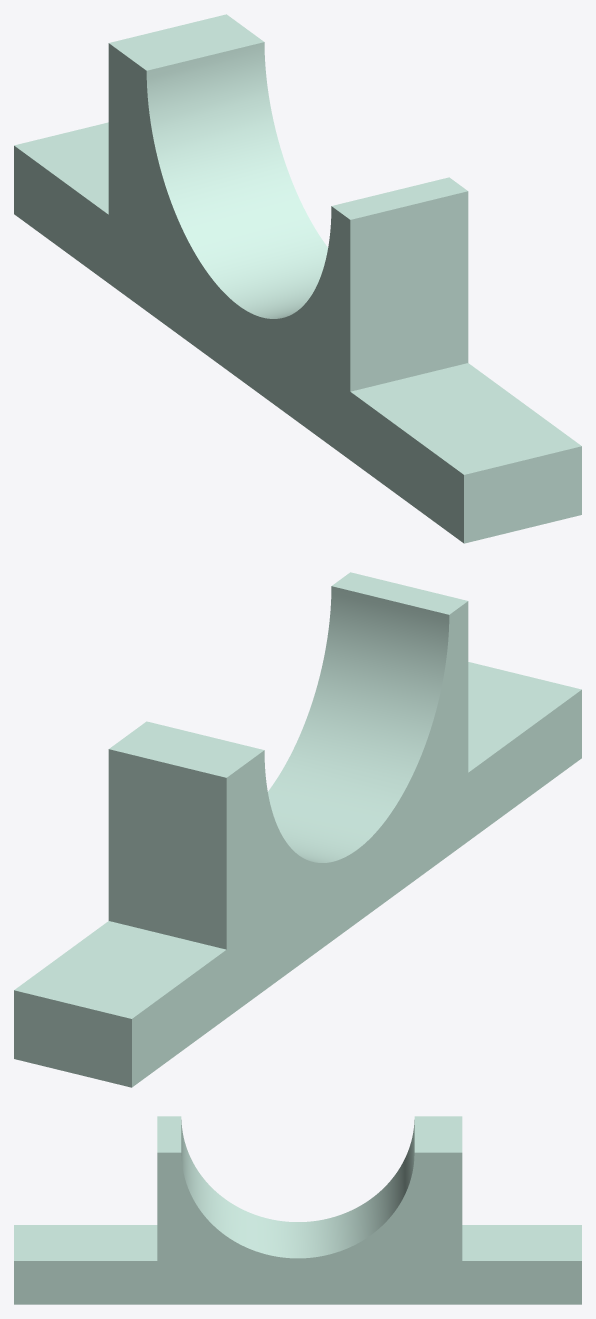
3 views of the same model, one above another, from view 1: azimuth 30°, elevation 25°; view 2: azimuth 150°, elevation 25°; view 3: azimuth 270°, elevation 25° (orthographic). The views are drawn at different scales.
Parts seen in each view (by area): view 1: Renderer Node; view 2: Renderer Node; view 3: Renderer Node.
Part boxes in pixels (box(x1,y1,x2,y2)): Renderer Node: box(14, 14, 581, 543); Renderer Node: box(14, 572, 581, 1087); Renderer Node: box(14, 1116, 581, 1304).
Size of the model in its own units: 0.2031 by 0.3961 by 1.34.
